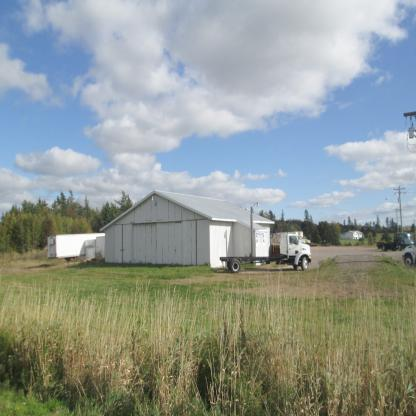Car: (396, 231, 415, 249), (402, 246, 416, 267)
Truck: (218, 234, 312, 270), (47, 232, 104, 262), (375, 231, 413, 254), (402, 244, 416, 269)
